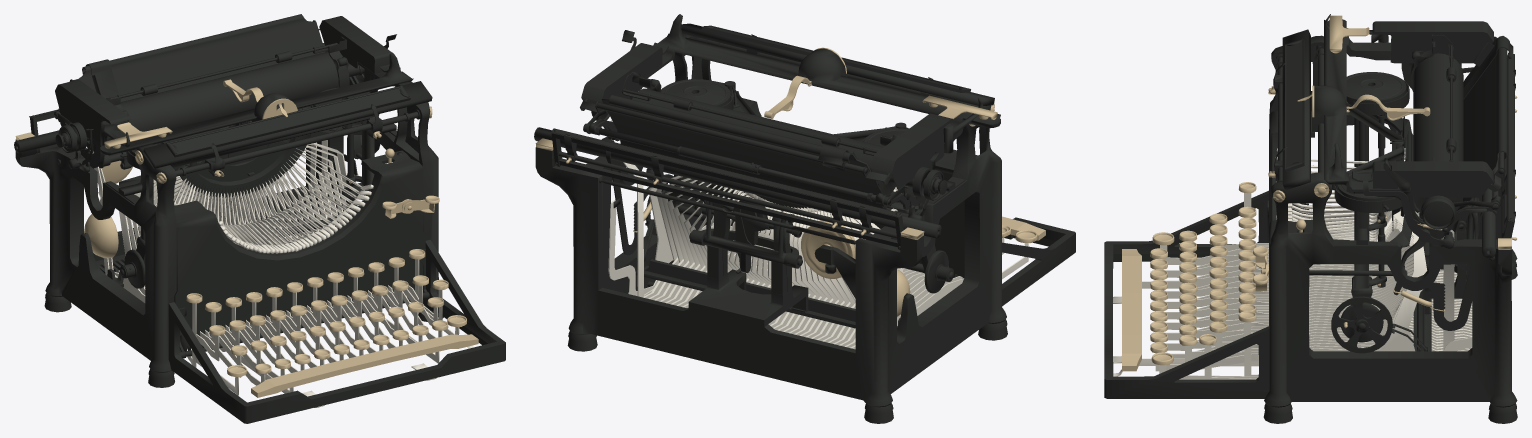
The model's file is typewriter-lite.glb.
The picture shows the model from 3 angles, left to right: view 1: azimuth 30°, elevation 25°; view 2: azimuth 150°, elevation 25°; view 3: azimuth 270°, elevation 25°; orthographic projection. The views are drawn at different scales.
Visible parts, largest first — view 1: Frame, Contraption, Key, Type; view 2: Frame, Contraption, Key, Type; view 3: Frame, Contraption, Key, Type.
Boxes of the visible parts, box(x1,y1,x2,y2) form: Frame: box(15, 14, 505, 423); Contraption: box(14, 16, 420, 288); Key: box(94, 140, 473, 407); Type: box(15, 79, 478, 397); Frame: box(535, 14, 1075, 423); Contraption: box(534, 30, 962, 326); Key: box(608, 116, 1028, 349); Type: box(535, 47, 1045, 316); Frame: box(1104, 14, 1517, 423); Contraption: box(1273, 21, 1515, 353); Key: box(1113, 148, 1472, 379); Type: box(1122, 15, 1517, 371).
Bounding box in the file's own units: 0.6769 × 0.439 × 0.6131.
